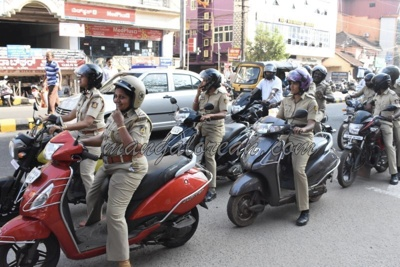helmet: (111, 75, 147, 114), (74, 61, 105, 93), (284, 65, 312, 97)
